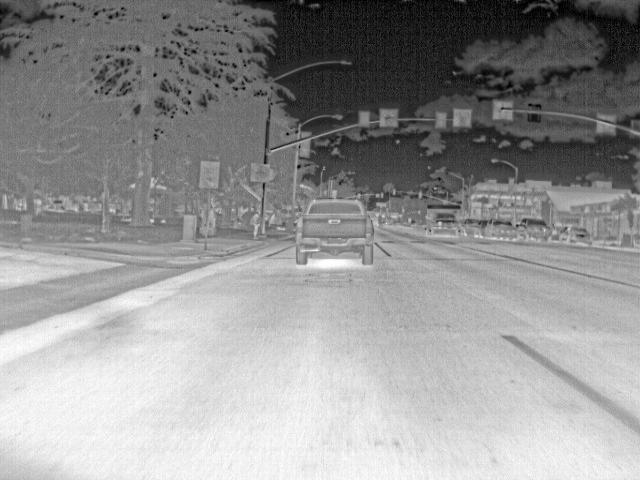car: (295, 198, 378, 265), (517, 218, 556, 241), (483, 219, 520, 239), (558, 224, 593, 245), (457, 218, 481, 236), (472, 220, 492, 238)
person: (249, 210, 262, 238)
